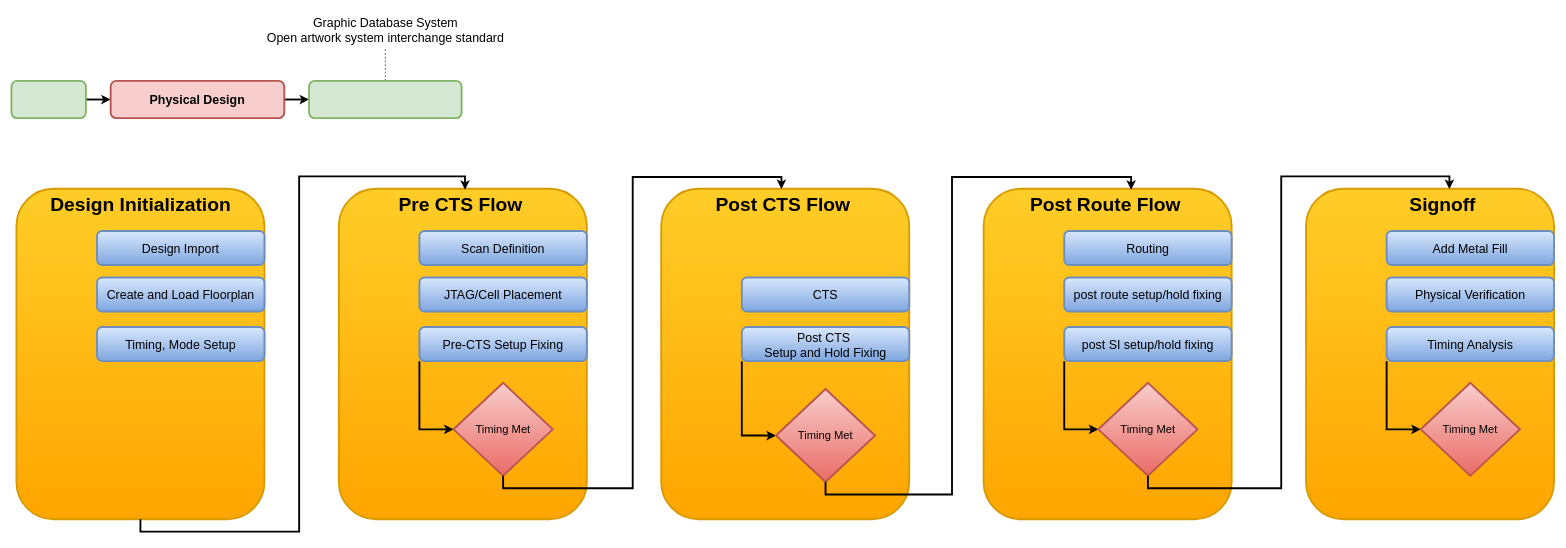
The diagram is 1566 pixels wide and 548 high, and some of its shapes have lost their labels. Each missing label, with the centre of its shape:
GDSII / OASIS: the point at 385,99
Netlist: the point at 48,99
